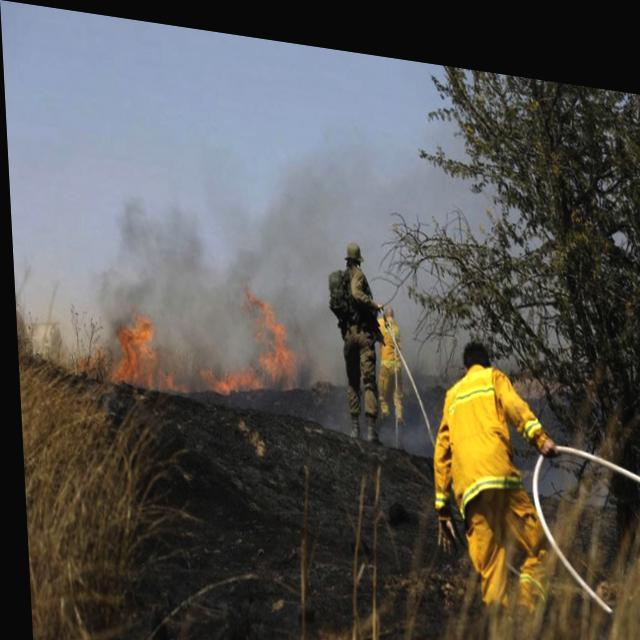Fire: (200, 284, 299, 403), (84, 312, 181, 390)
